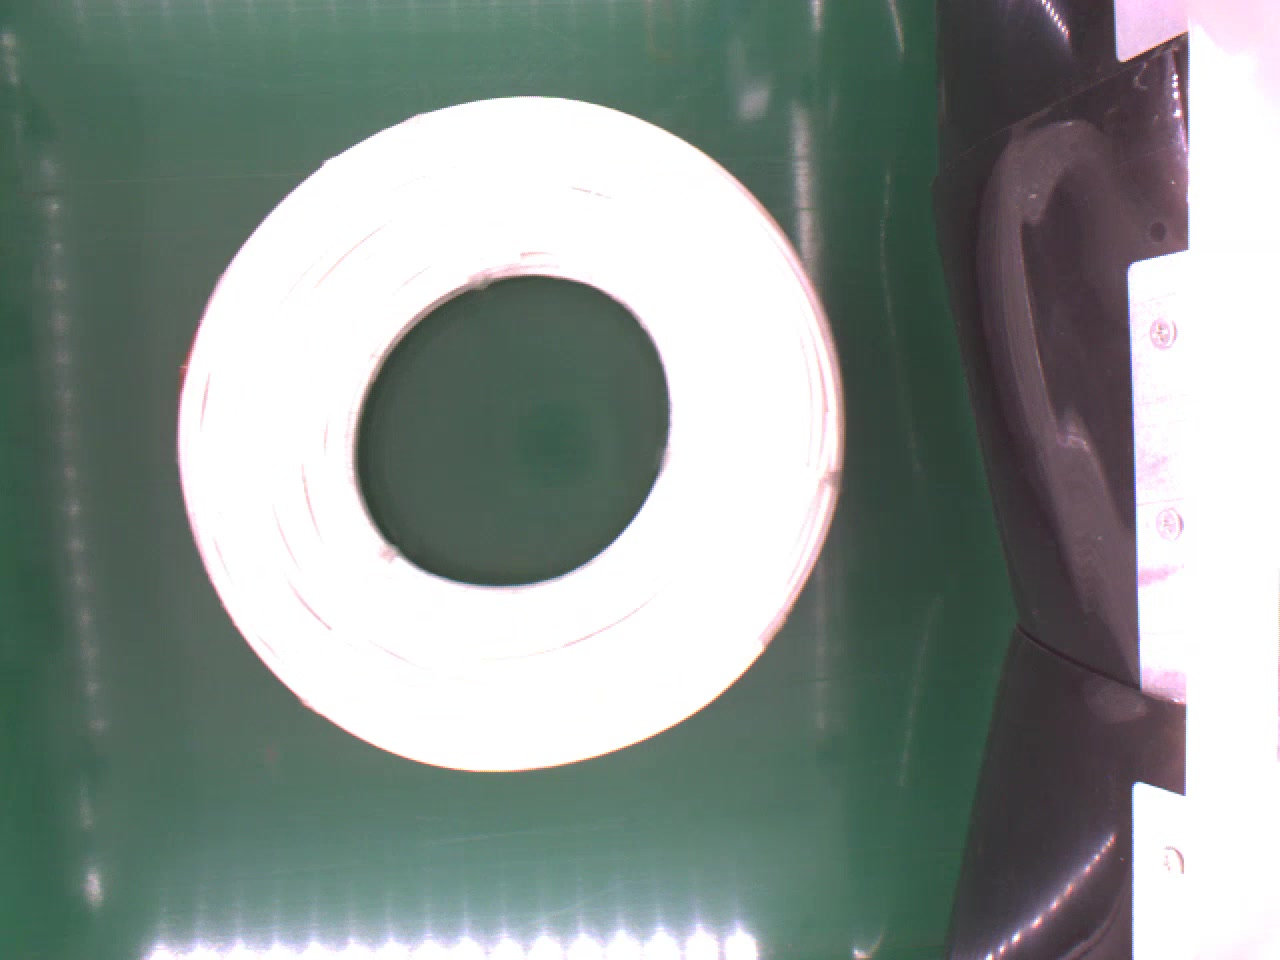white: (172, 93, 856, 786)
